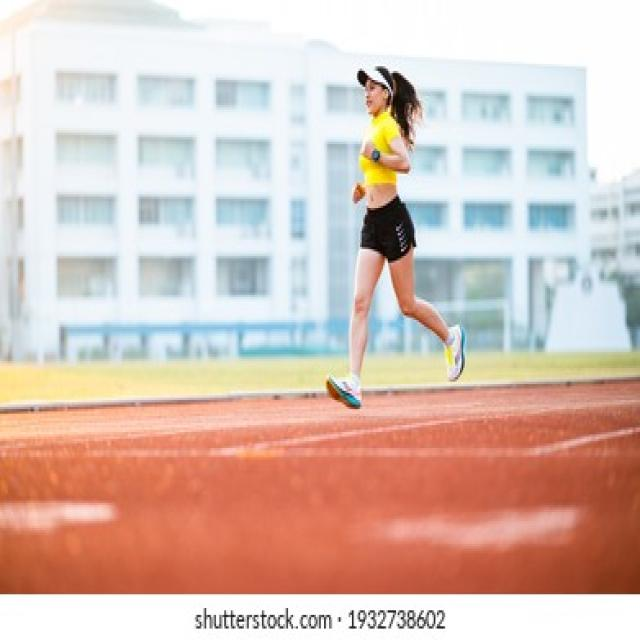running: (323, 64, 470, 412)
